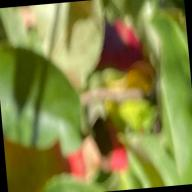Apples: (53, 109, 129, 179), (89, 19, 145, 72)
